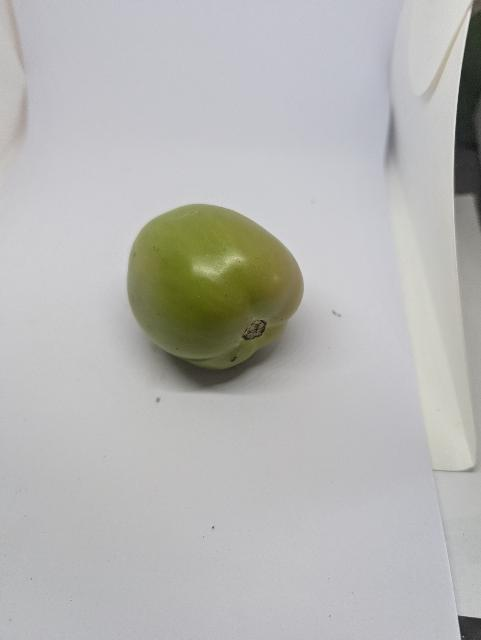green: (111, 197, 331, 395)
